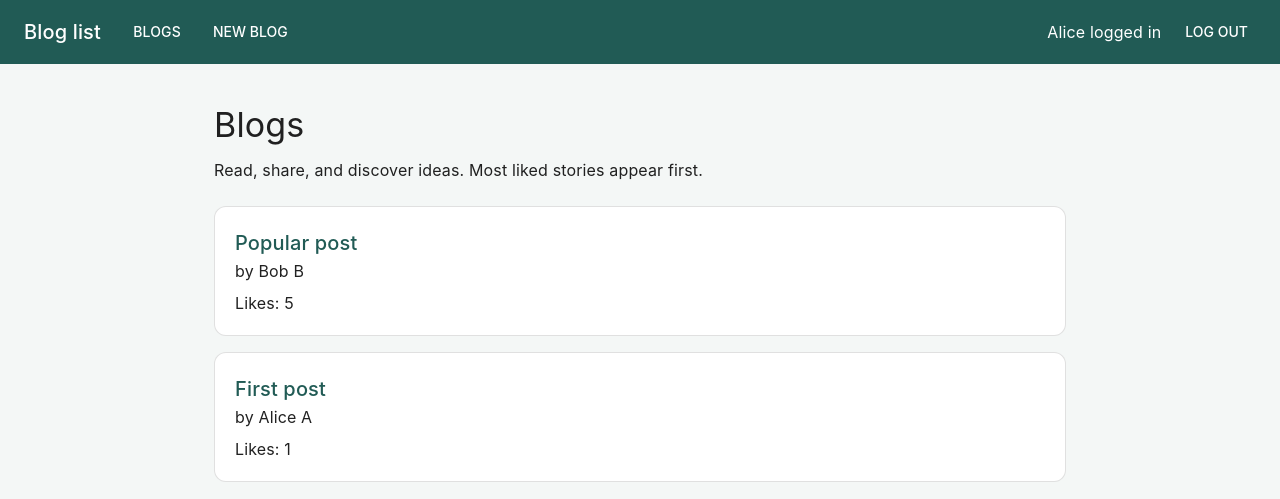
Blog list › sorts by likes and keeps creator visible after liking
Expected: the link "Popular post" is shown, [235,231,358,255]
Expected: the element showing "Popular post by Bob B Likes: 5" is shown, [214,206,1066,336]
Click the link "First post".
click(280, 389)  # box [235,377,326,401]
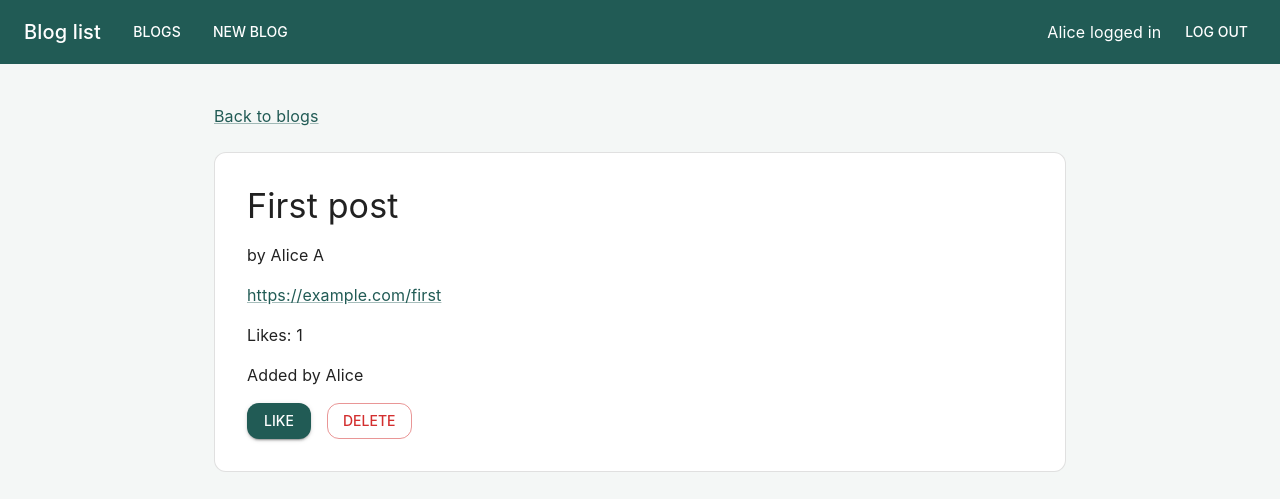
Now the link "https://example.com/first" is shown, box [247,285,441,305]
Now the text "Added by Alice" is shown, box [247,365,364,385]
Click the button "Like".
click(279, 421)  # box [247,403,311,440]
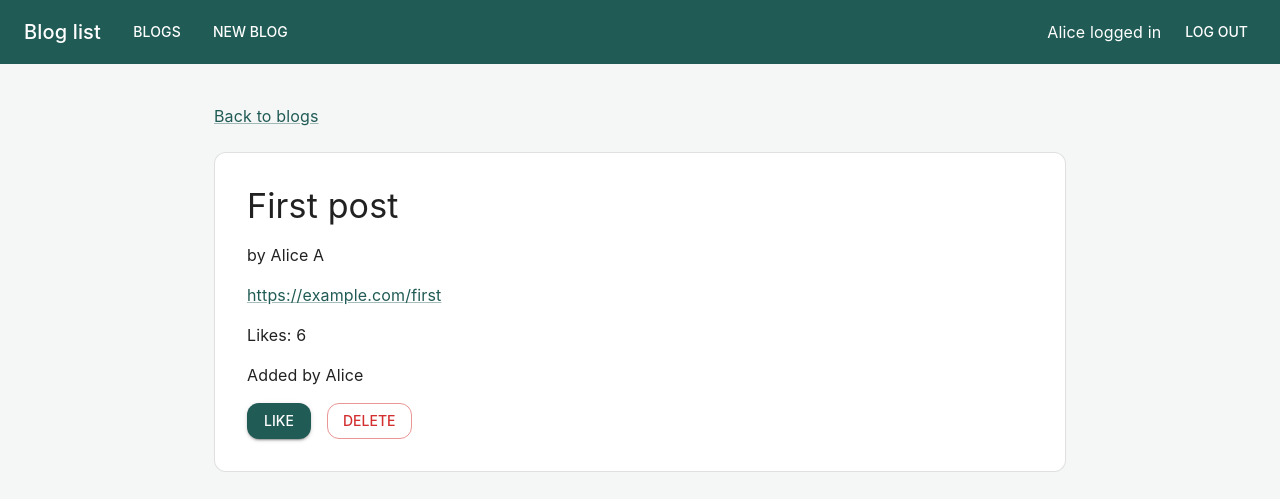
Now the text "Added by Alice" is shown, box [247,365,364,385]
Now the text "Likes: 6" is shown, box [247,325,306,345]
Click the link "Blogs".
click(157, 31)  # box [133,23,181,40]
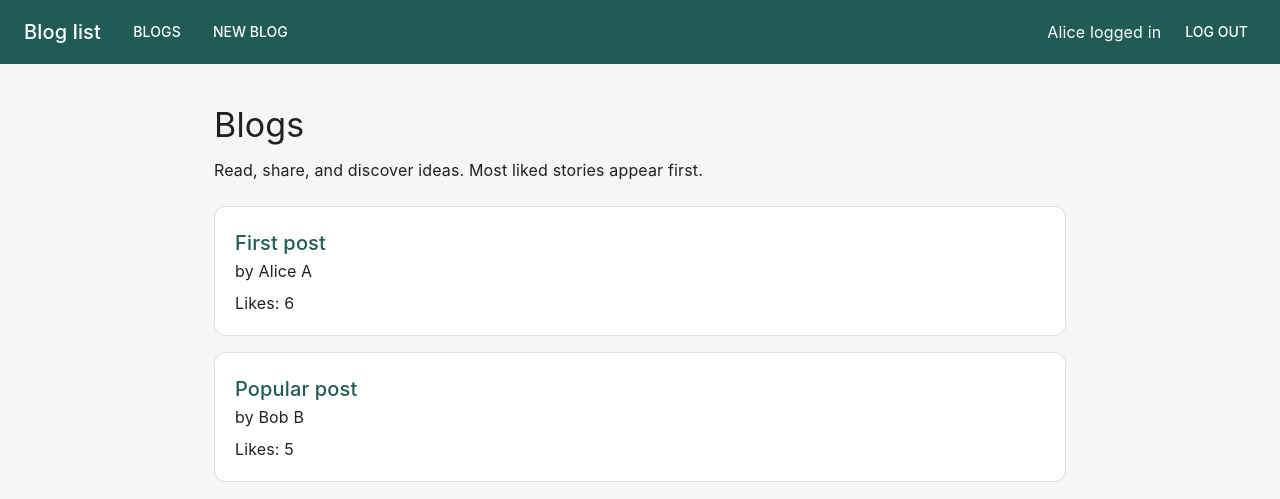
Now the element showing "First post by Alice A Likes: 6" is shown, box [214,206,1066,336]
